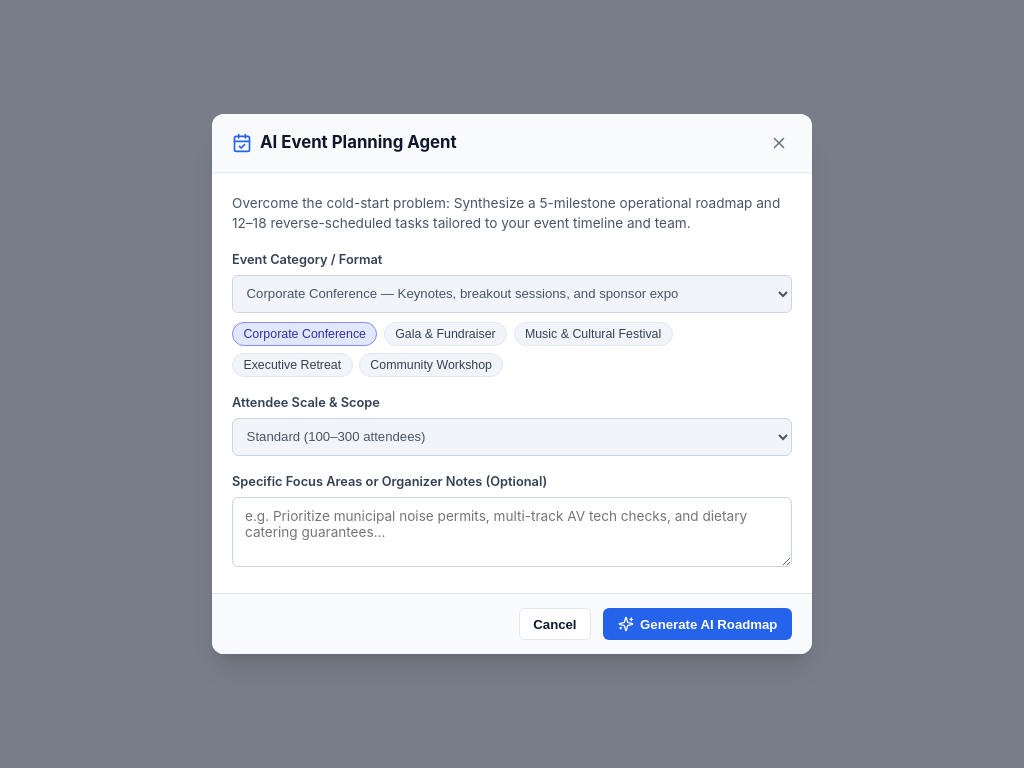
Test: GeneratePlanModal Component › renders error banner when mutation fails
Click the button "Generate AI Roadmap".
click(698, 624)  # box [603, 608, 792, 640]
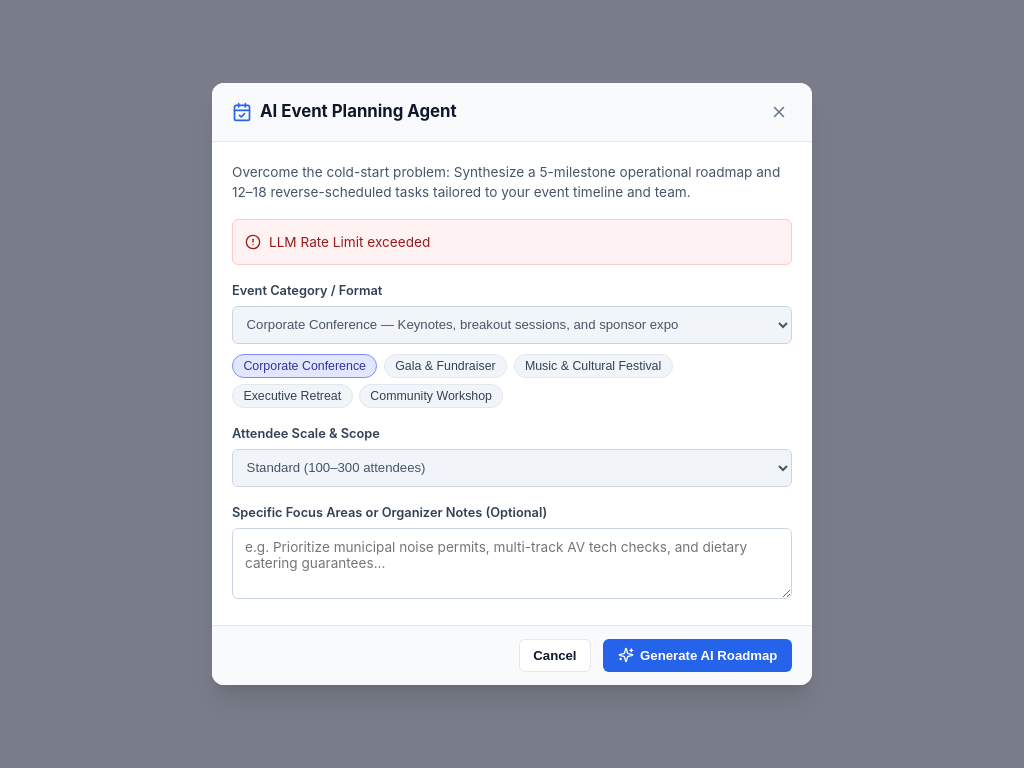
Now the message "LLM Rate Limit exceeded" is shown, box [232, 219, 792, 265]
Now the text "LLM Rate Limit exceeded" is shown, box [269, 232, 430, 252]
